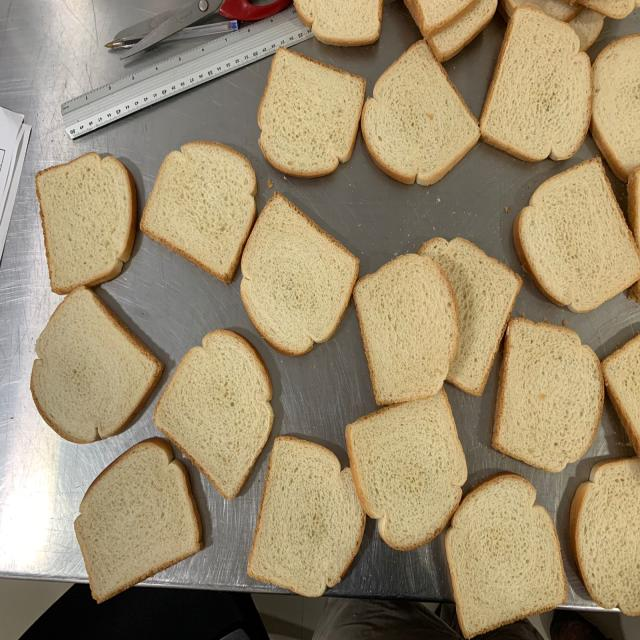pan: (74, 436, 205, 603), (30, 285, 164, 444), (445, 472, 568, 639), (153, 329, 273, 500), (345, 387, 468, 551), (513, 156, 640, 314), (240, 193, 359, 356), (248, 435, 367, 598), (479, 5, 594, 163), (493, 317, 604, 474), (361, 40, 481, 185), (140, 141, 257, 286), (353, 254, 459, 406), (35, 152, 137, 296), (257, 47, 366, 177)
